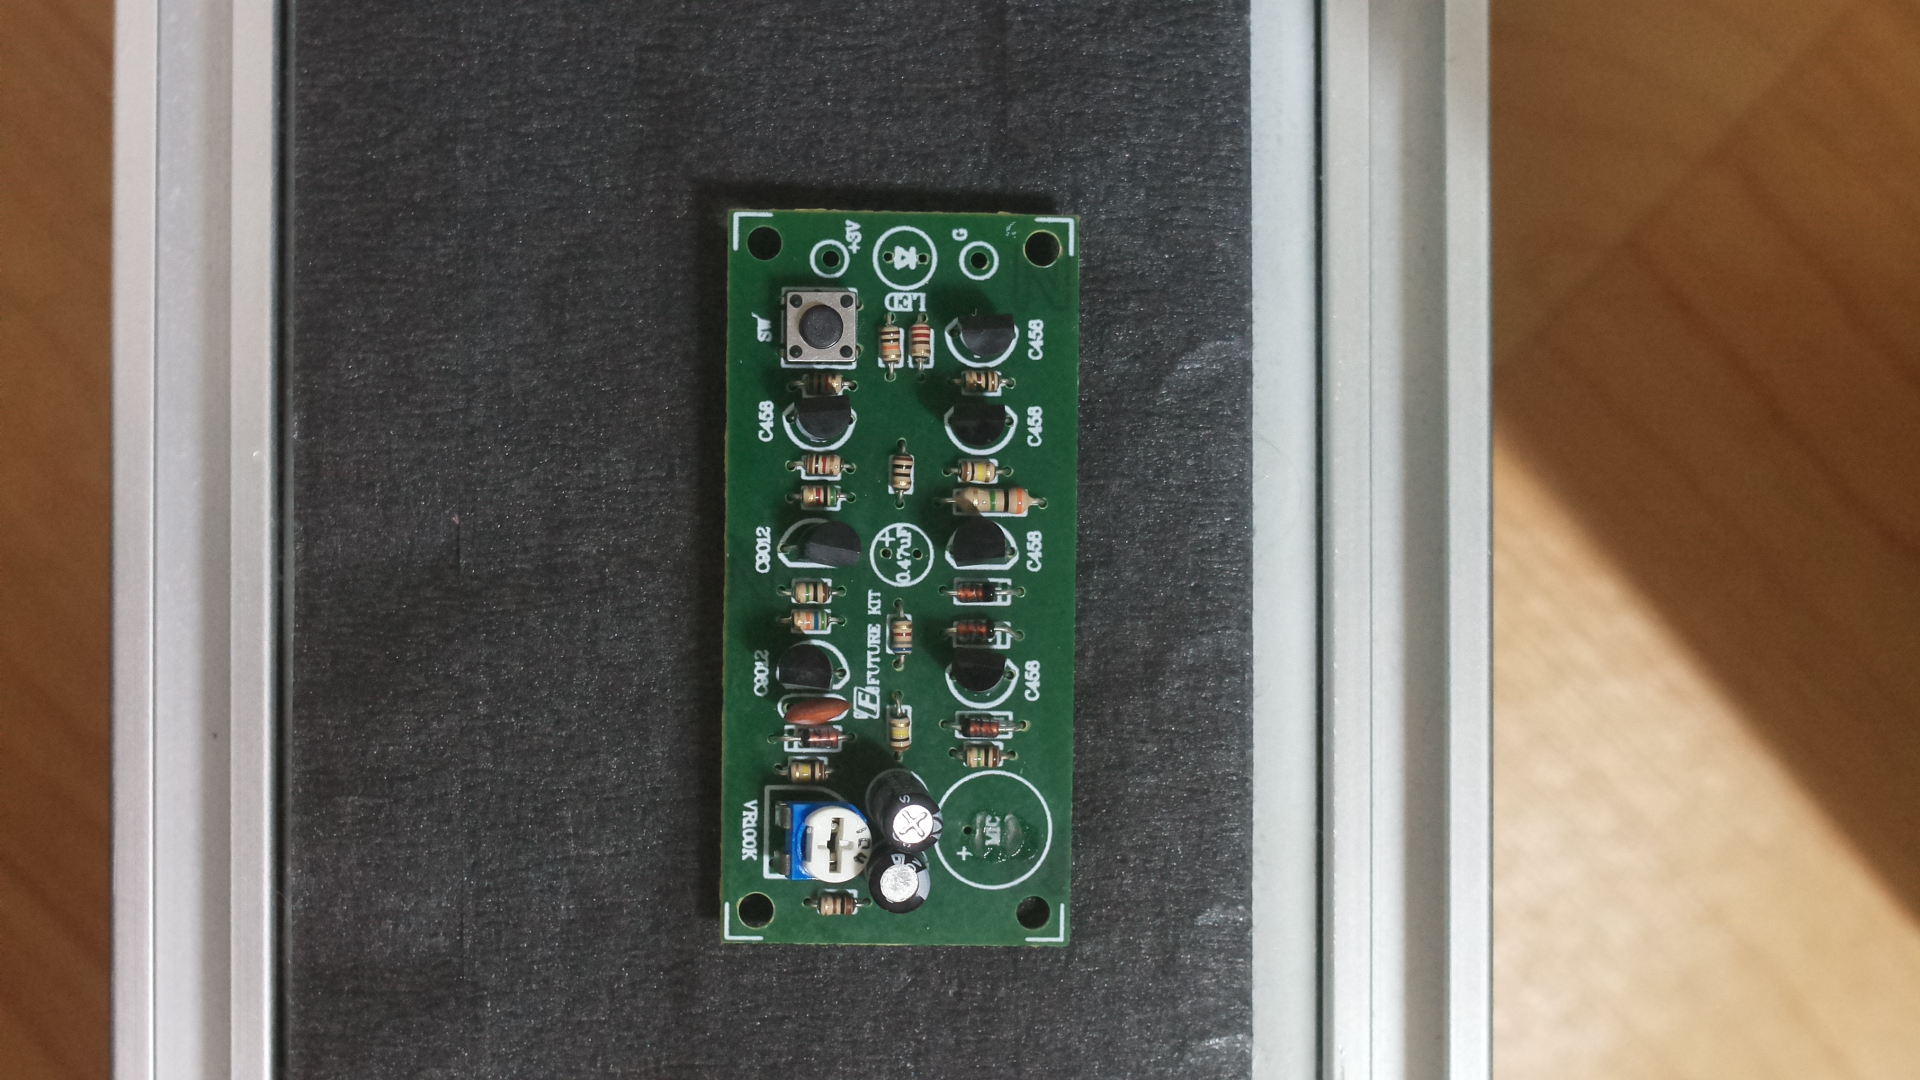A_Missing_part: (713, 190, 1088, 969)
